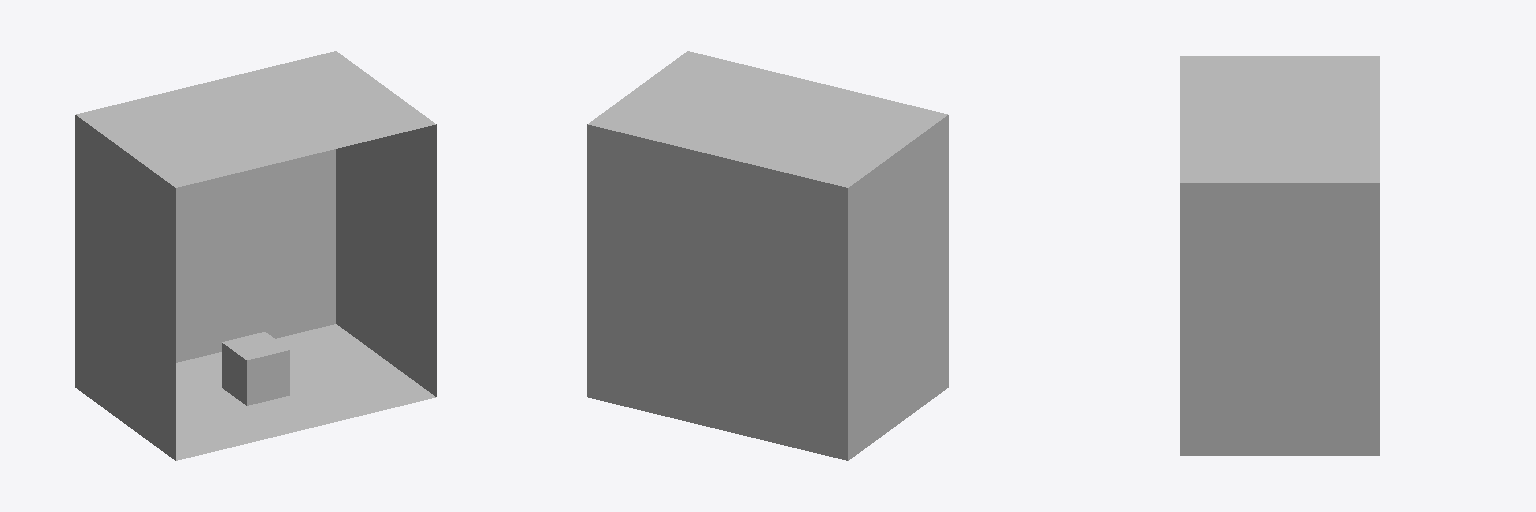
Rendered from cubescene3.obj.
The picture shows the model from 3 angles: view 1: azimuth 30°, elevation 25°; view 2: azimuth 150°, elevation 25°; view 3: azimuth 270°, elevation 25°; orthographic projection.
Parts seen in each view (by area): view 1: wall3, wall, Grid.002, wall4, wall2, Cube_Cube.002; view 2: wall, wall3, Grid.002; view 3: wall4, Grid.002.
Part boxes in pixels (x1,y1,x2,y2): wall3: (75,115,175,460); wall: (176,149,335,362); Grid.002: (76,51,435,187); wall4: (336,124,436,396); wall2: (176,324,435,460); Cube_Cube.002: (222,332,289,405); wall: (587,124,847,460); wall3: (848,115,948,460); Grid.002: (588,51,947,187); wall4: (1180,183,1379,455); Grid.002: (1180,56,1379,182).
Size of the model in its own units: 3 by 3 by 2.